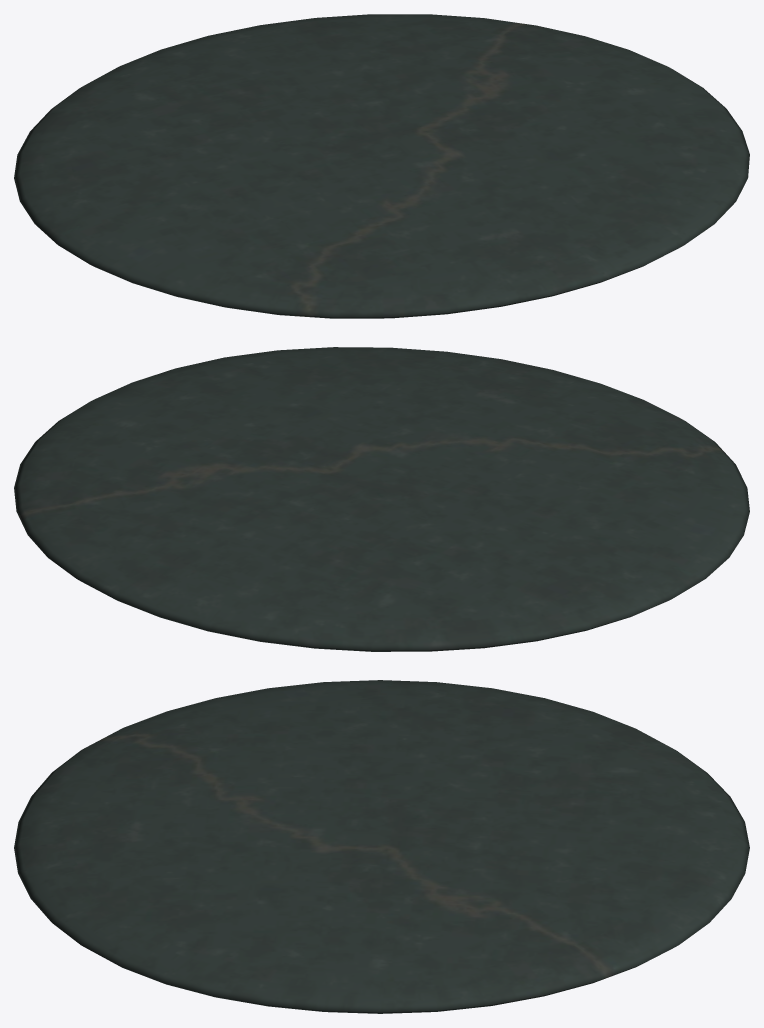
Rendered from master_disc_04.glb.
3 views of the same model, one above another, from view 1: azimuth 30°, elevation 25°; view 2: azimuth 150°, elevation 25°; view 3: azimuth 270°, elevation 25° (orthographic). The views are drawn at different scales.
Visible parts, largest first — view 1: master_disc_04; view 2: master_disc_04; view 3: master_disc_04.
Boxes of the visible parts, box(x1,y1,x2,y2) form: master_disc_04: box(14, 14, 749, 318); master_disc_04: box(14, 347, 749, 651); master_disc_04: box(14, 680, 749, 1013).
Bounding box in the file's own units: 0.0947 × 0.00598 × 0.0891.
Materials: 1 (1 with a texture image).
